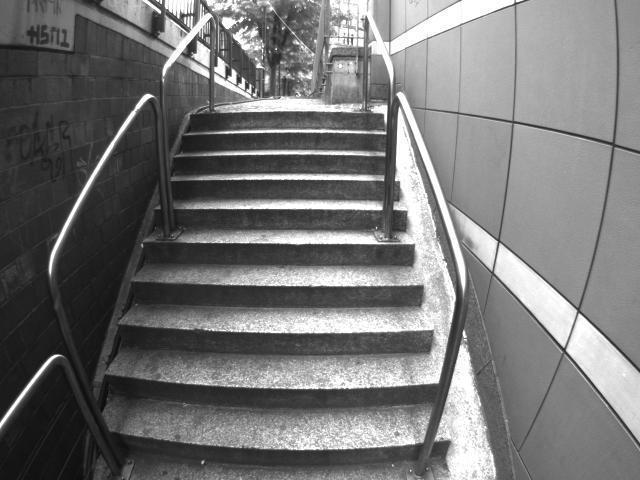Escaleras: (86, 114, 454, 479)
